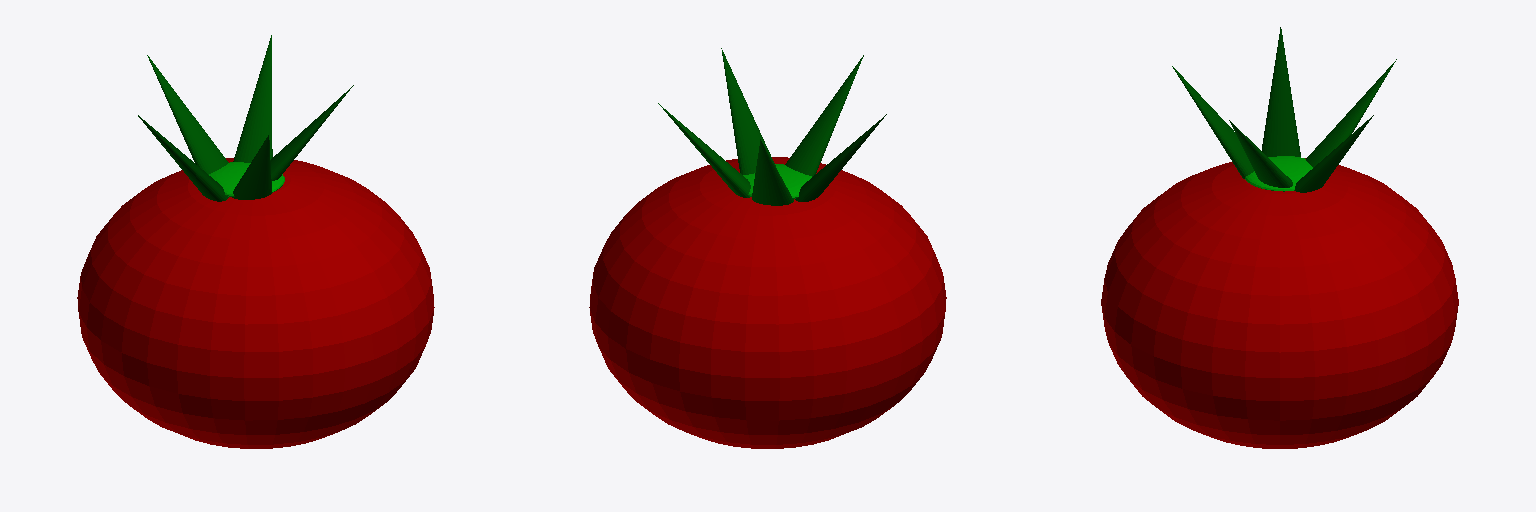
File: tomato.obj
3 renders of one model, left to right at view 1: azimuth 30°, elevation 25°; view 2: azimuth 150°, elevation 25°; view 3: azimuth 270°, elevation 25°, orthographic.
Visible parts, largest first — view 1: Sphere, Cone.002, Cone.001, Cone.003, Cone, Cone.004, Sphere.001_Sphere.002; view 2: Sphere, Cone.003, Cone.004, Cone.001, Cone.002, Cone, Sphere.001_Sphere.002; view 3: Sphere, Cone, Cone.003, Cone.001, Cone.002, Cone.004, Sphere.001_Sphere.002.
Part boxes in pixels (left/top/right/bottom): Sphere: left=77, top=158, right=434, bottom=448; Cone.002: left=233, top=35, right=272, bottom=162; Cone.001: left=147, top=55, right=228, bottom=174; Cone.003: left=232, top=135, right=271, bottom=199; Cone: left=138, top=115, right=228, bottom=201; Cone.004: left=271, top=85, right=353, bottom=180; Sphere.001_Sphere.002: left=209, top=162, right=284, bottom=196; Sphere: left=589, top=157, right=946, bottom=448; Cone.003: left=785, top=55, right=863, bottom=176; Cone.004: left=721, top=48, right=775, bottom=174; Cone.001: left=752, top=139, right=793, bottom=205; Cone.002: left=658, top=103, right=750, bottom=197; Cone: left=795, top=114, right=886, bottom=201; Sphere.001_Sphere.002: left=743, top=164, right=811, bottom=198; Sphere: left=1101, top=158, right=1458, bottom=448; Cone: left=1262, top=27, right=1300, bottom=156; Cone.003: left=1172, top=66, right=1253, bottom=178; Cone.001: left=1306, top=59, right=1396, bottom=167; Cone.002: left=1295, top=115, right=1373, bottom=192; Cone.004: left=1229, top=120, right=1292, bottom=187; Sphere.001_Sphere.002: left=1245, top=156, right=1312, bottom=191.
Size of the model in its own units: 1.69 by 1.79 by 1.69.